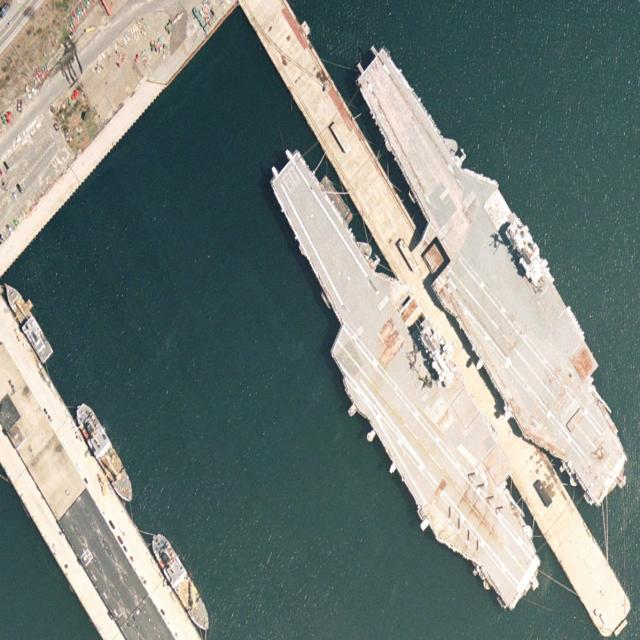Aircraft Carrier: (241, 128, 565, 633), (327, 21, 640, 535)
Cargo: (70, 395, 138, 511), (146, 526, 216, 638), (1, 279, 54, 364)
